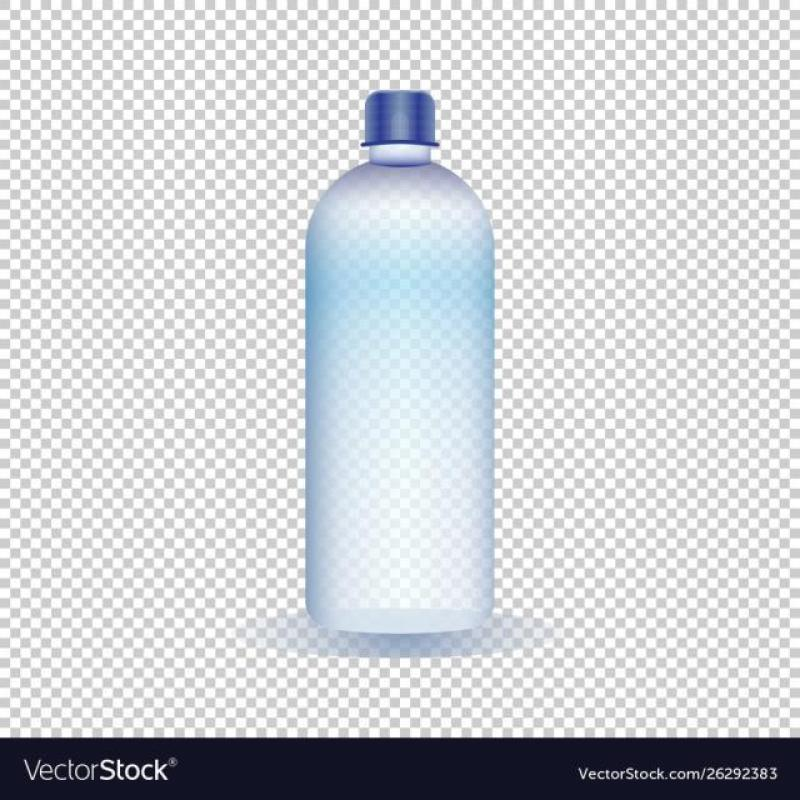botella: (306, 88, 497, 637)
